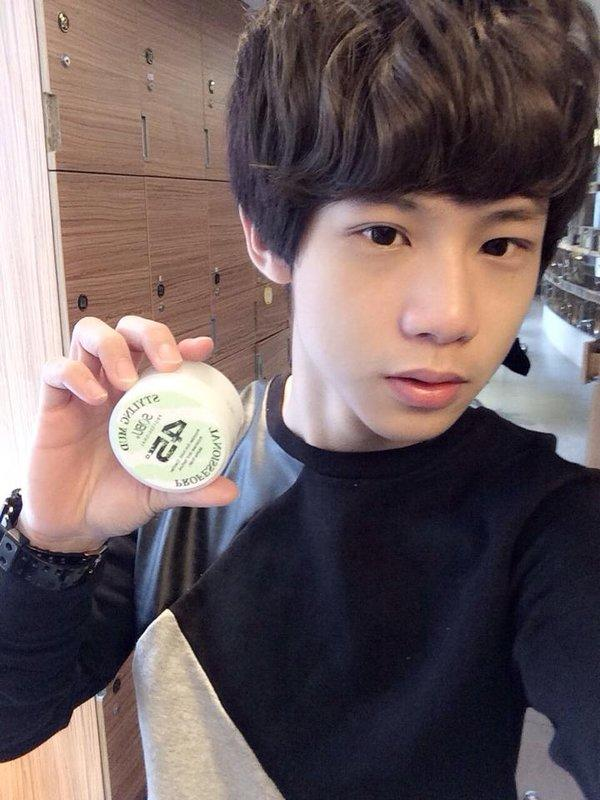people: (182, 4, 577, 800)
